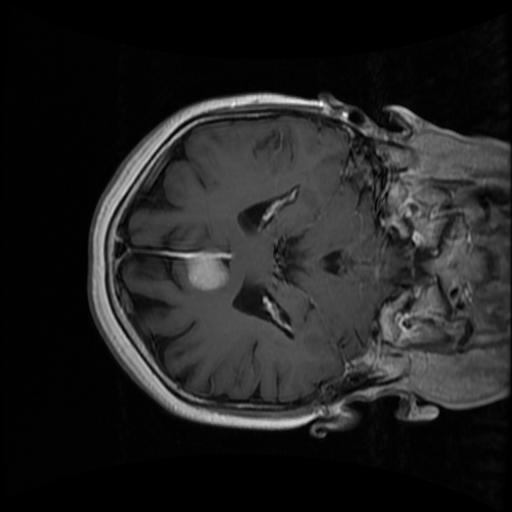meningioma: (183, 250, 228, 291)
